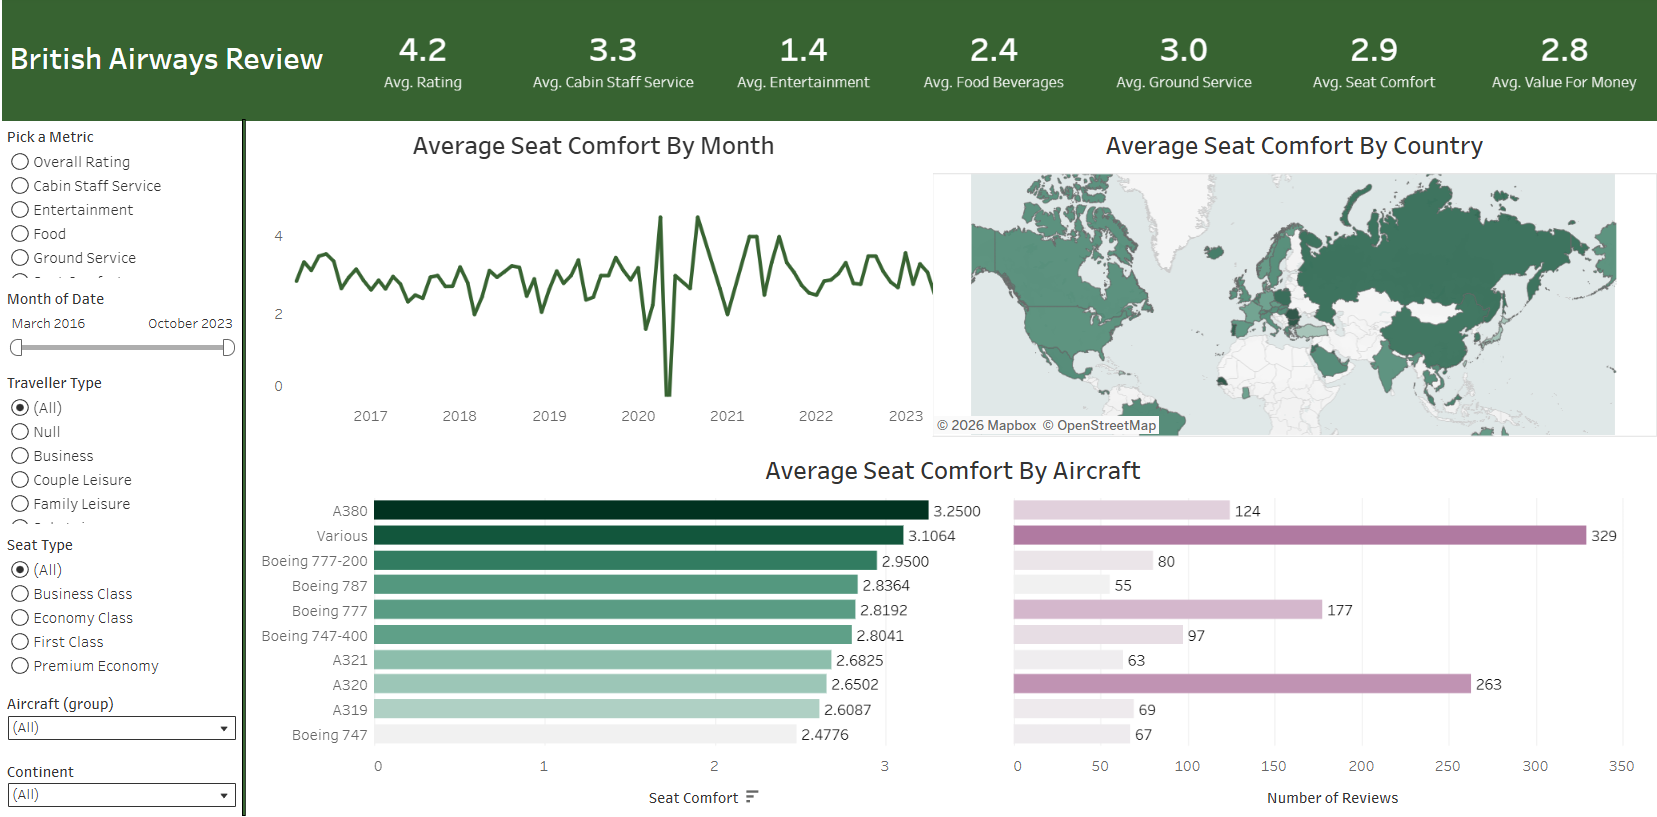

Layout of this report page (visuals, bound fields, positions):
{"tool":"tableau","page":{"name":"Dashboard 1","canvas":[1400,700],"ordinal":0},"visuals":[{"type":"text","box":[0,10,274,105]},{"type":"worksheet","title":"Summary","mark":"Automatic","box":[272,10,1110,105]},{"type":"blank","box":[200,113,3,582]},{"type":"parameter","param":"[Parameters].[Parameter 1]","box":[0,115,200,122.7]},{"type":"worksheet","title":"Month","mark":"Automatic","rows":["Calculation_1091034026422272"],"cols":["date"],"box":[210,115,566,263]},{"type":"worksheet","title":"Map","mark":"Automatic","box":[775,115,605,263]},{"type":"filter","title":"Map","param":"[federated.07927bk04azqld17a384g1bag9i6].[tmn:date:qk]","box":[0,237.7,200,77]},{"type":"filter","title":"Map","param":"[federated.07927bk04azqld17a384g1bag9i6].[none:traveller_type:nk]","box":[0,314.7,200,122.7]},{"type":"worksheet","title":"Aircraft","mark":"Automatic","cols":["Calculation_1091034026422272","ba_reviews.csv_4E4D194411414290AFA74BE344E5C0A9"],"box":[210,386,1165,307]},{"type":"filter","title":"Map","param":"[federated.07927bk04azqld17a384g1bag9i6].[none:seat_type:nk]","box":[0,437.3,200,122.7]},{"type":"filter","title":"Map","param":"[federated.07927bk04azqld17a384g1bag9i6].[Aircraft (group)]","box":[0,560,200,70]},{"type":"filter","title":"Map","param":"[federated.07927bk04azqld17a384g1bag9i6].[none:Continent:nk]","box":[0,630,200,70]}]}

Visuals, with their boxes in screenshot pixels (x1, y1, x2, y2), scaled from the page's 1400x700 canvas onto the 1657x817 screenshot:
text: box=[0, 12, 324, 134]
"Summary" worksheet: box=[322, 12, 1636, 134]
blank: box=[237, 132, 240, 811]
parameter: box=[0, 134, 237, 277]
"Month" worksheet: box=[249, 134, 918, 441]
"Map" worksheet: box=[917, 134, 1633, 441]
"Map" filter: box=[0, 277, 237, 367]
"Map" filter: box=[0, 367, 237, 511]
"Aircraft" worksheet: box=[249, 451, 1627, 809]
"Map" filter: box=[0, 510, 237, 654]
"Map" filter: box=[0, 654, 237, 735]
"Map" filter: box=[0, 735, 237, 816]
